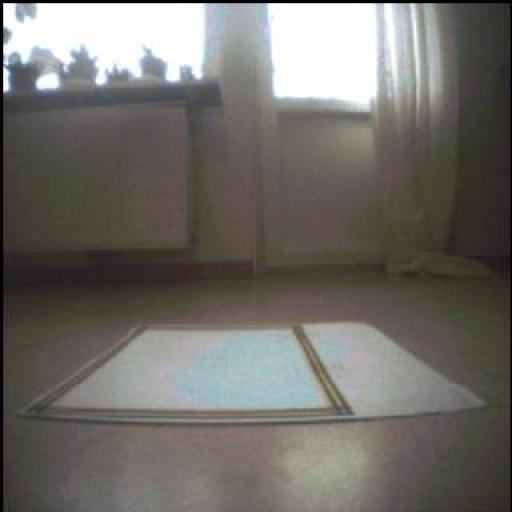Pad: (22, 324, 484, 425)
